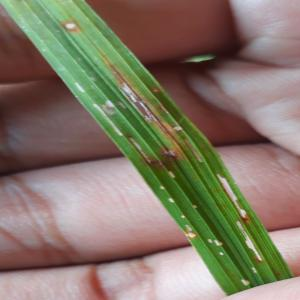1 RiceBlast: (100, 52, 165, 122), (114, 121, 155, 170), (50, 14, 86, 38)
